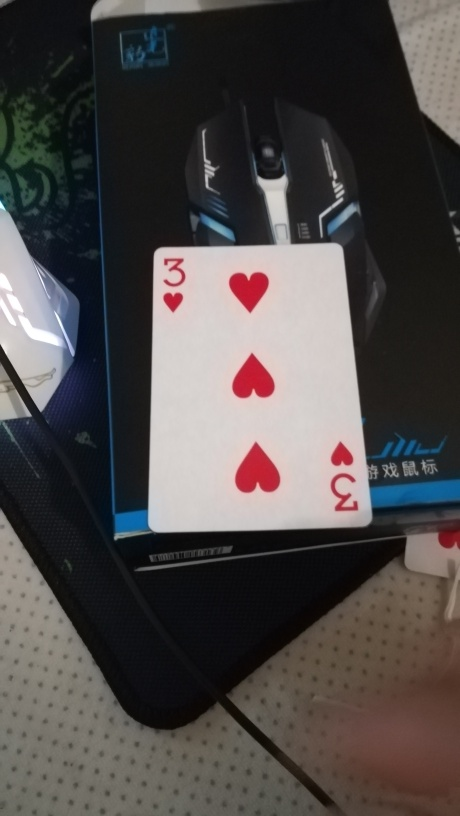hx 3: (146, 241, 376, 535)
